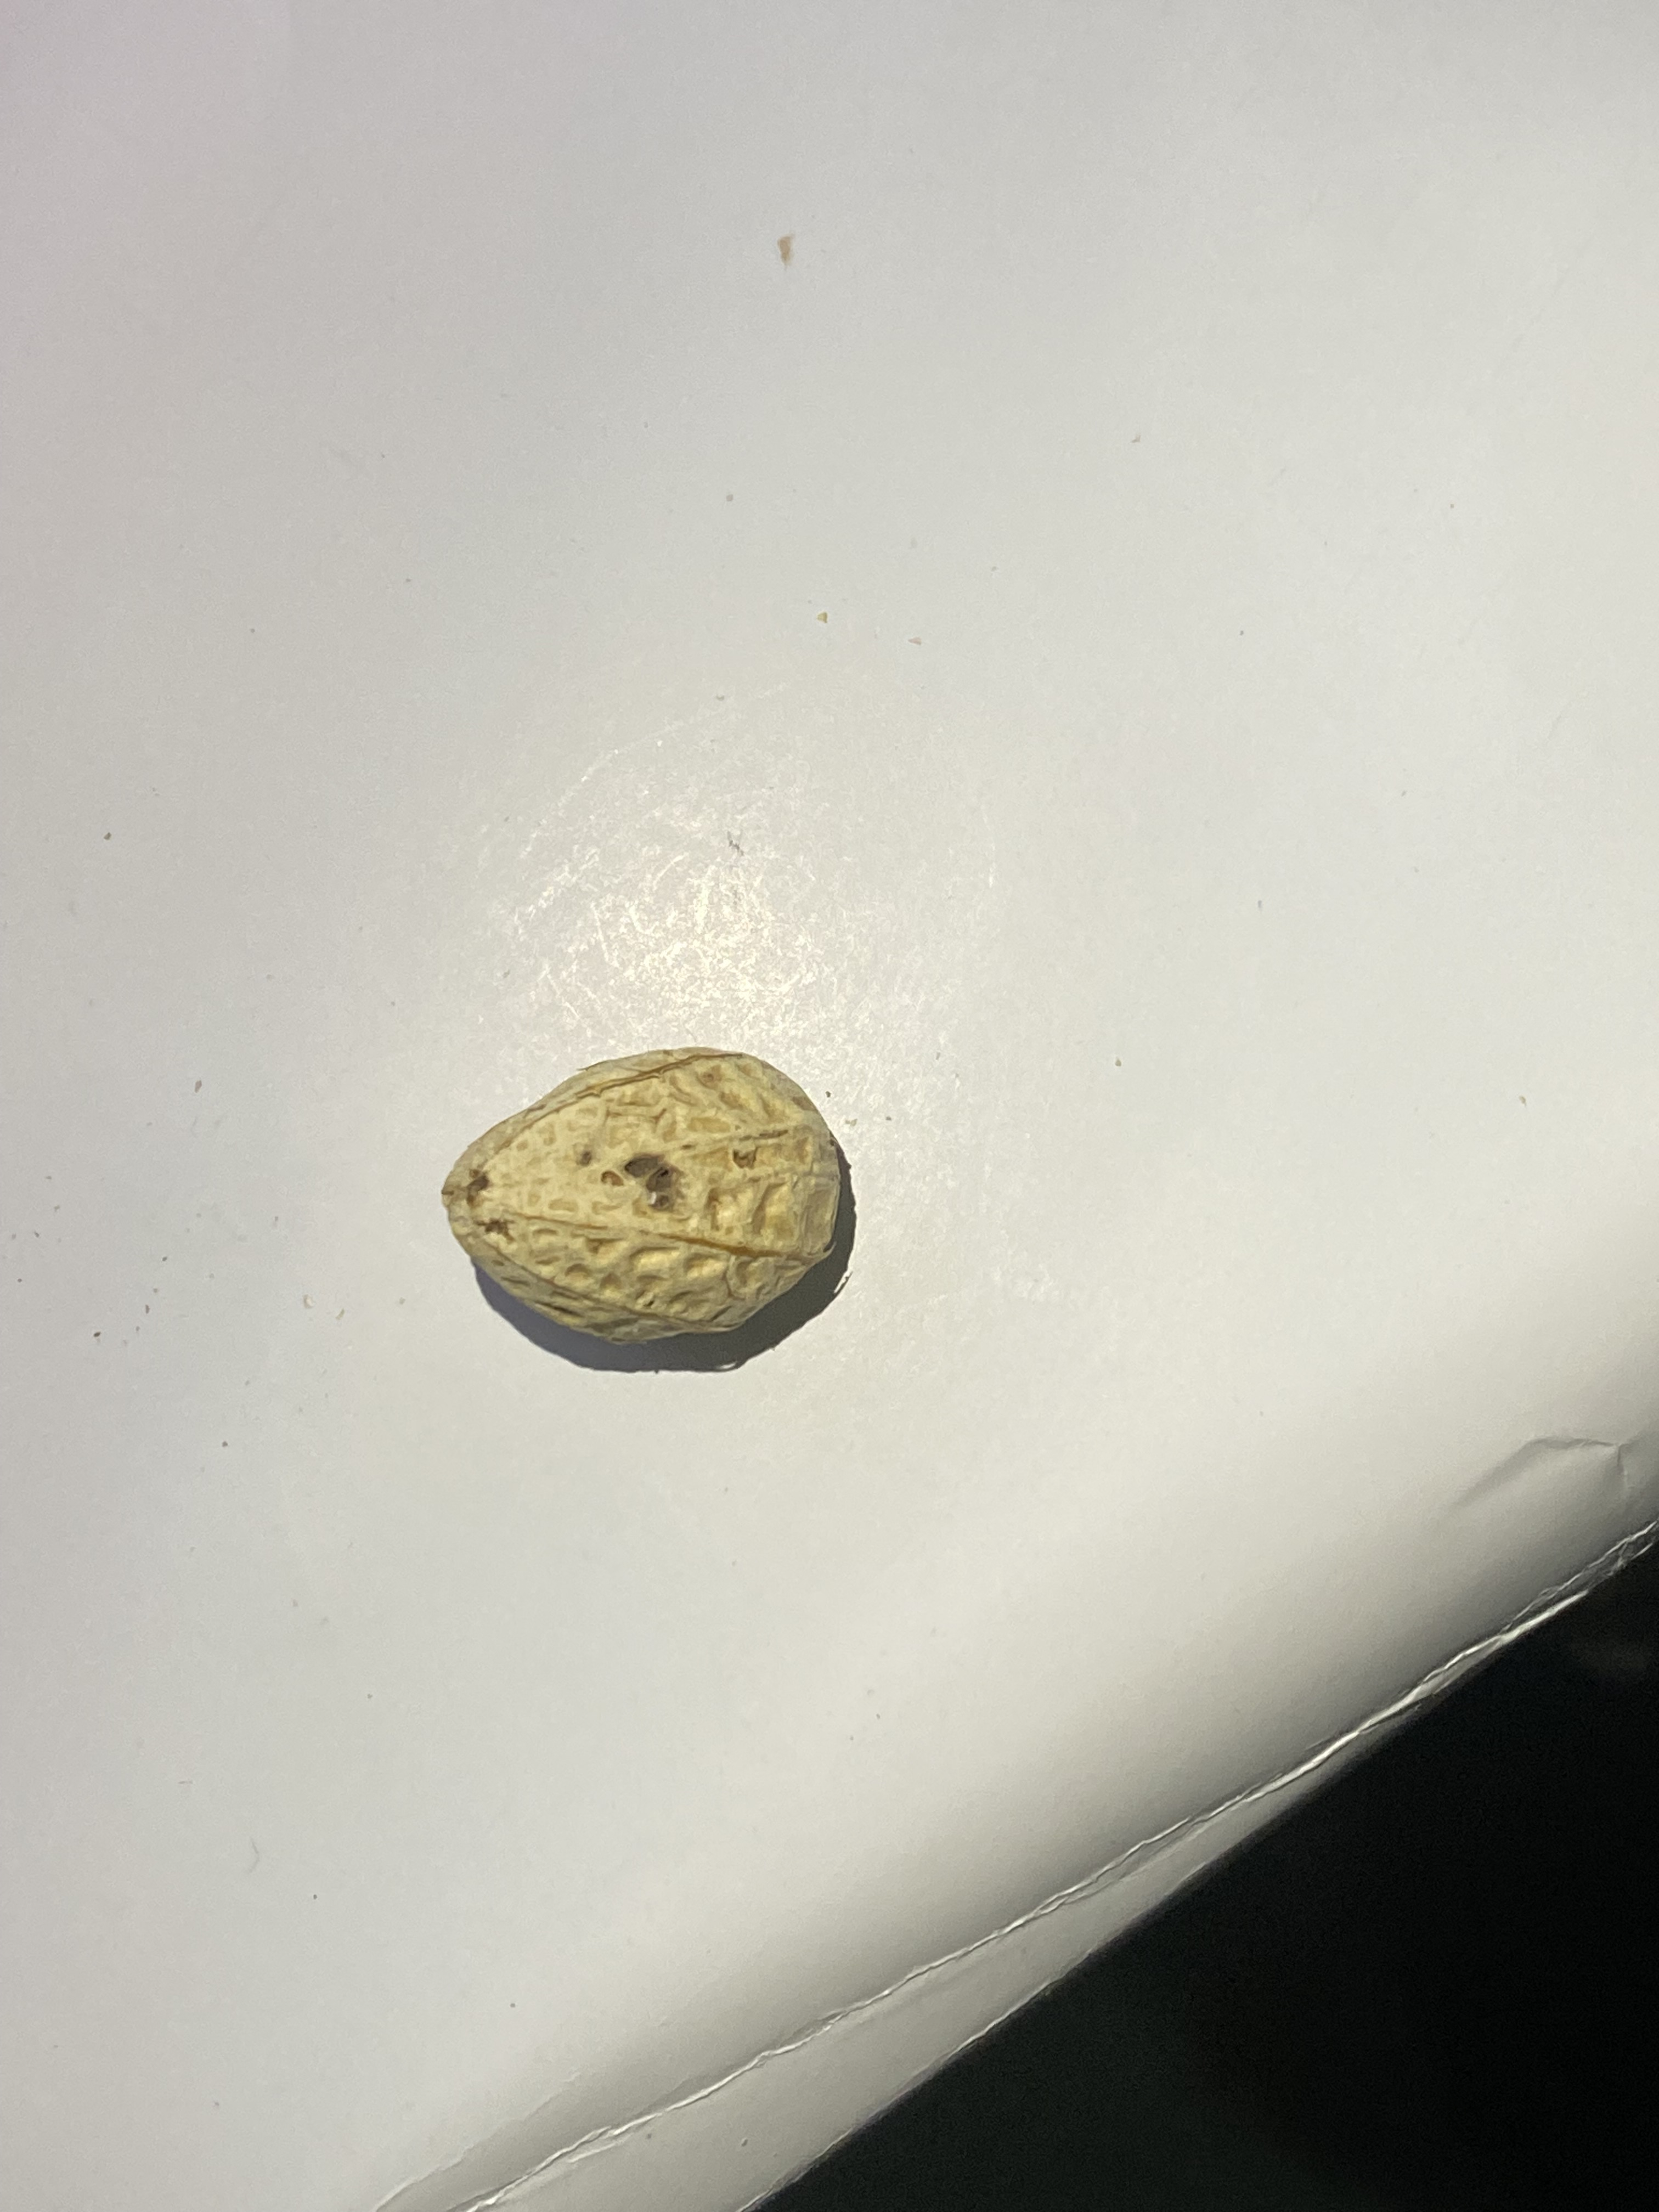kacang1: (410, 989, 875, 1378)
